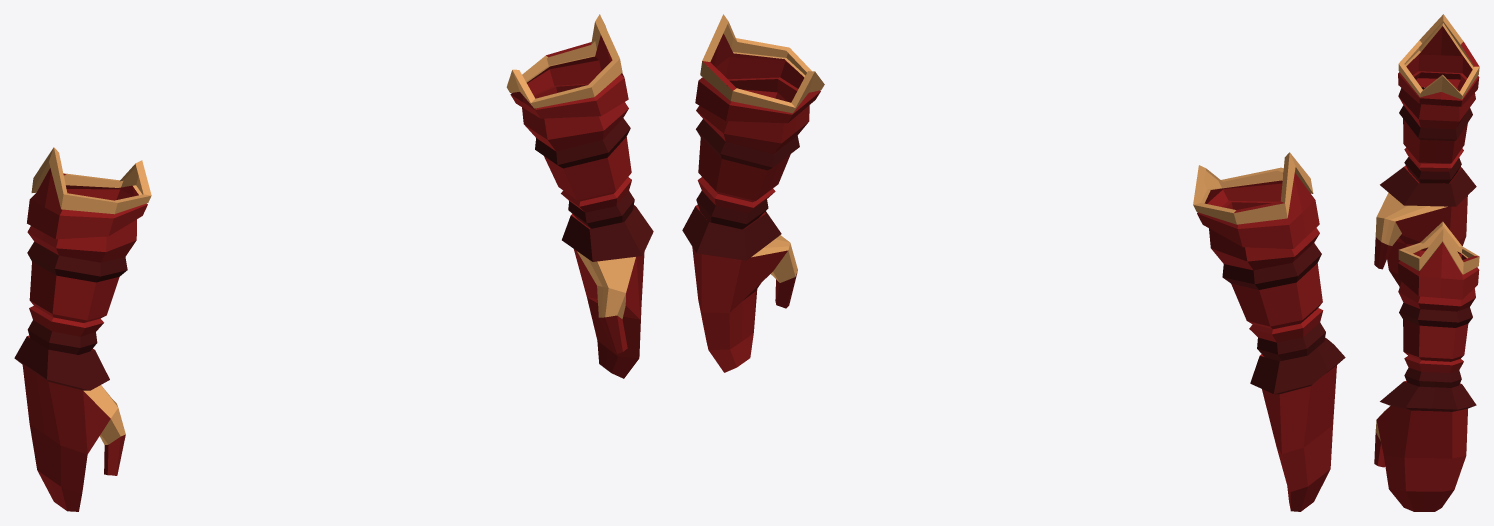
The model's file is dragon_gloves.gltf.
3 views of the same model, side by side, from view 1: azimuth 30°, elevation 25°; view 2: azimuth 150°, elevation 25°; view 3: azimuth 270°, elevation 25° (orthographic). The views are drawn at different scales.
Parts seen in each view (by area): view 1: dragon_gloves; view 2: dragon_gloves; view 3: dragon_gloves.
Part boxes in pixels (x1,y1,x2,y2): dragon_gloves: (14,14,653,511); dragon_gloves: (682,14,1345,511); dragon_gloves: (1374,14,1479,511).
Bounding box in the file's own units: 3.31 × 1.82 × 0.6164.
